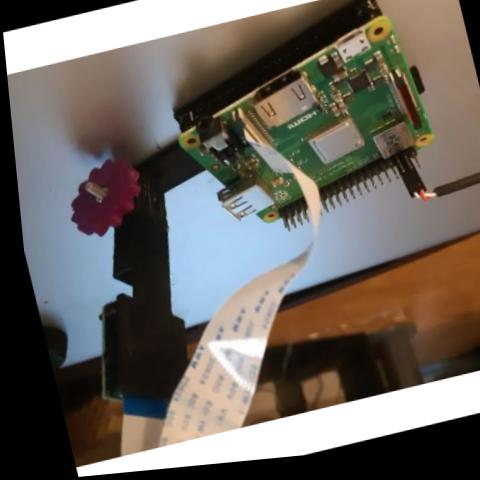Raspberry-Pi-1-Model-A-: (134, 0, 455, 269)
